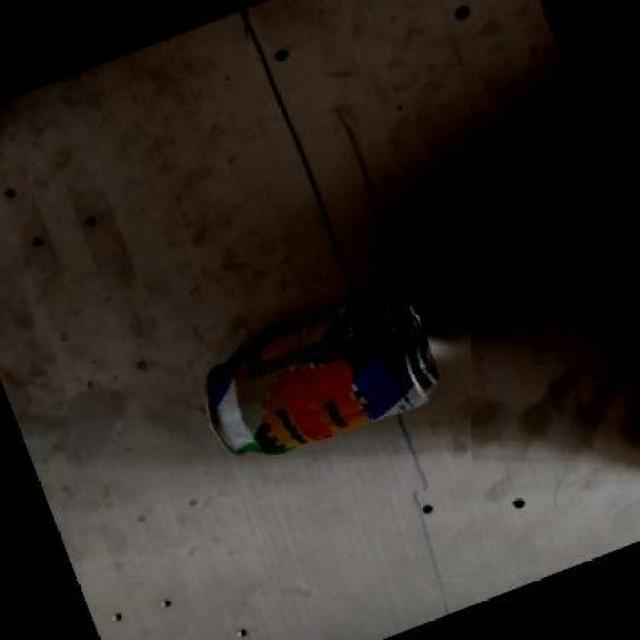recyclable: (166, 263, 471, 497)
